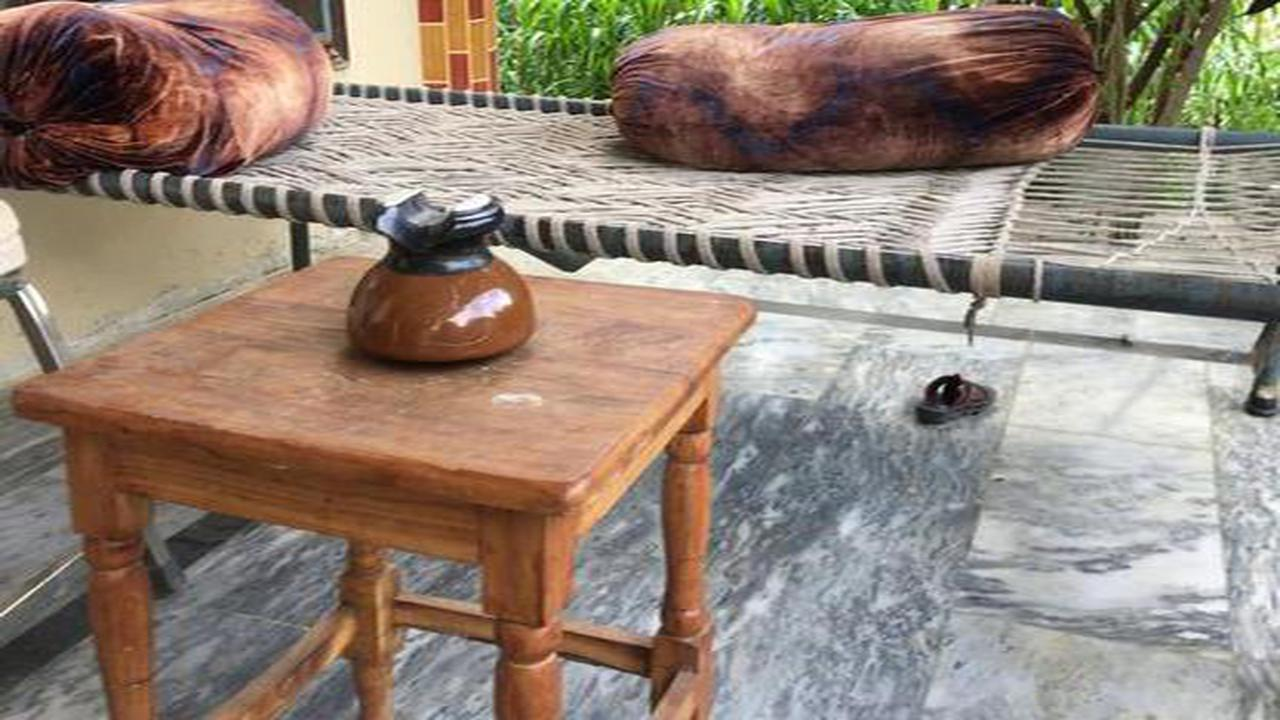insulator_pin: (321, 172, 567, 383)
